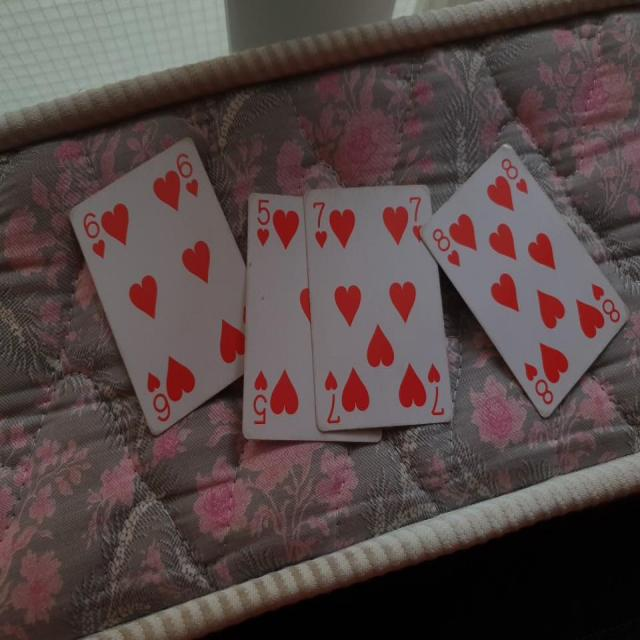5 Hearts: (234, 172, 384, 449)
6 Hearts: (64, 132, 249, 432)
7 Hearts: (300, 180, 457, 433)
8 Hearts: (417, 138, 626, 426)
